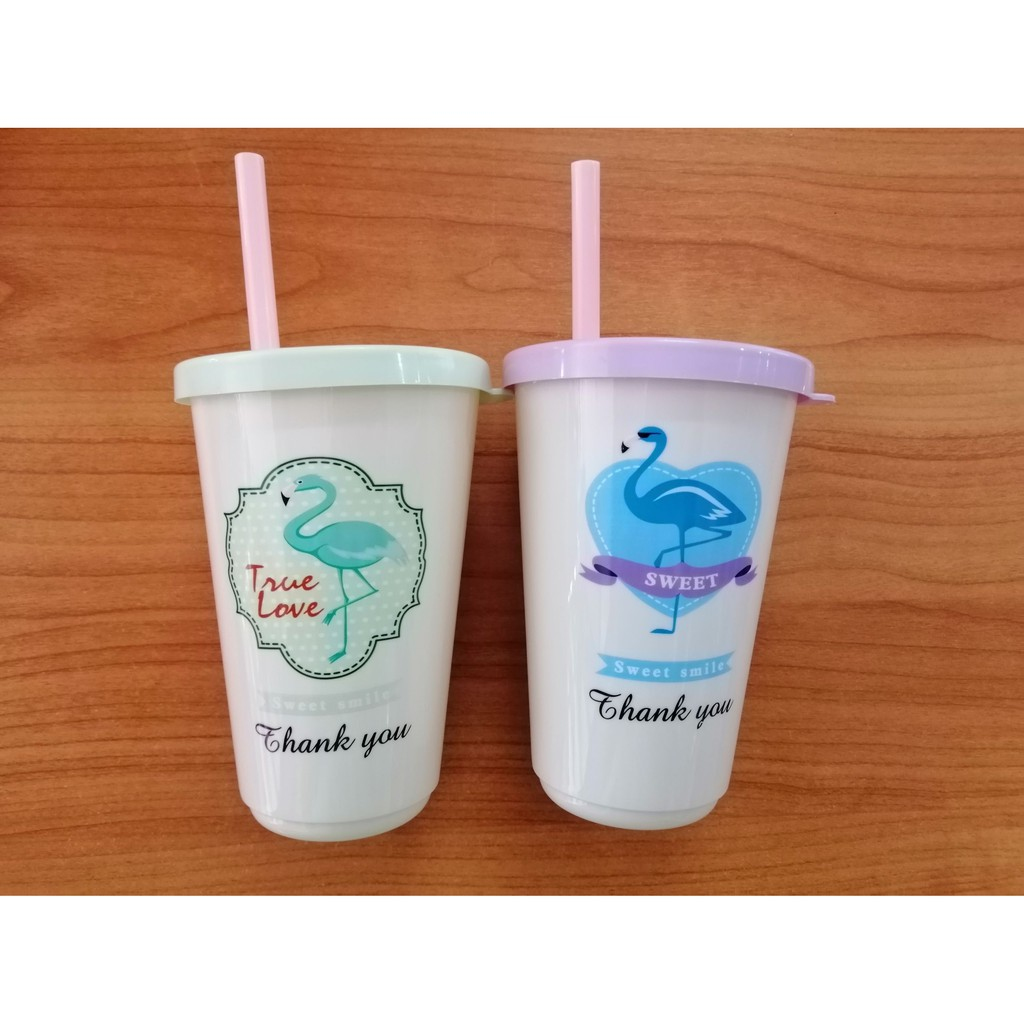plastic_glass: (431, 174, 940, 905), (85, 183, 489, 889)
